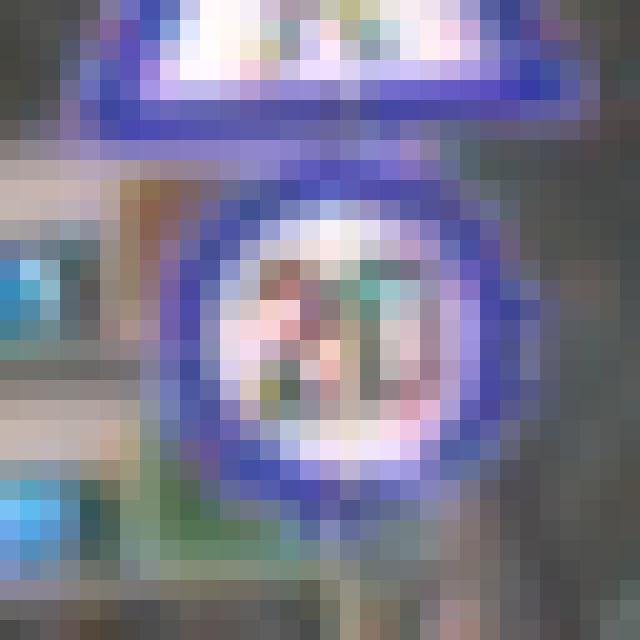SPEED LIMIT 20: (171, 171, 544, 527)
